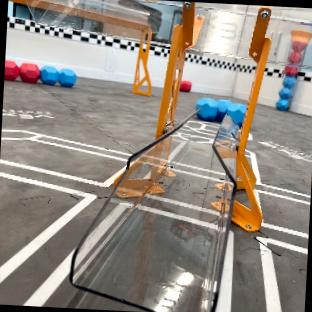Goal: (70, 111, 239, 312), (21, 0, 150, 93), (156, 1, 202, 137)
V5_BLUE: (196, 97, 245, 124), (40, 66, 76, 87), (276, 76, 294, 109), (196, 97, 217, 119), (228, 103, 245, 123), (58, 69, 76, 87)
V5_RED: (20, 63, 38, 81), (4, 60, 18, 79), (179, 80, 191, 90)
